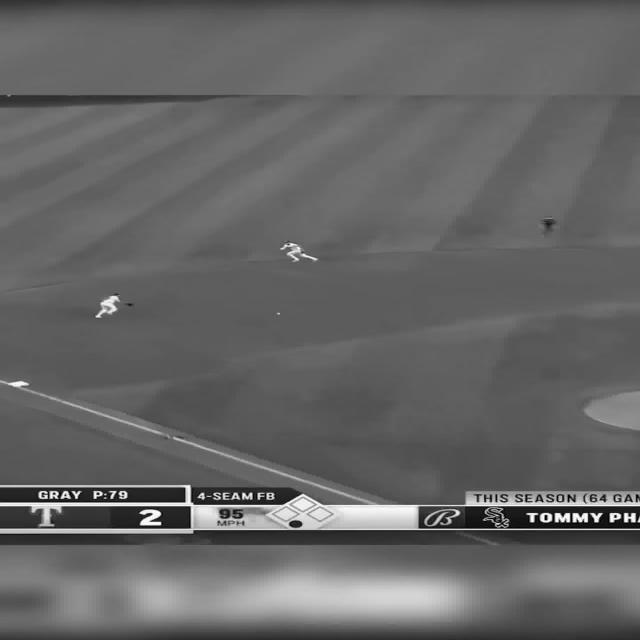baseball: (277, 313, 281, 315)
shoe: (94, 315, 102, 318)
